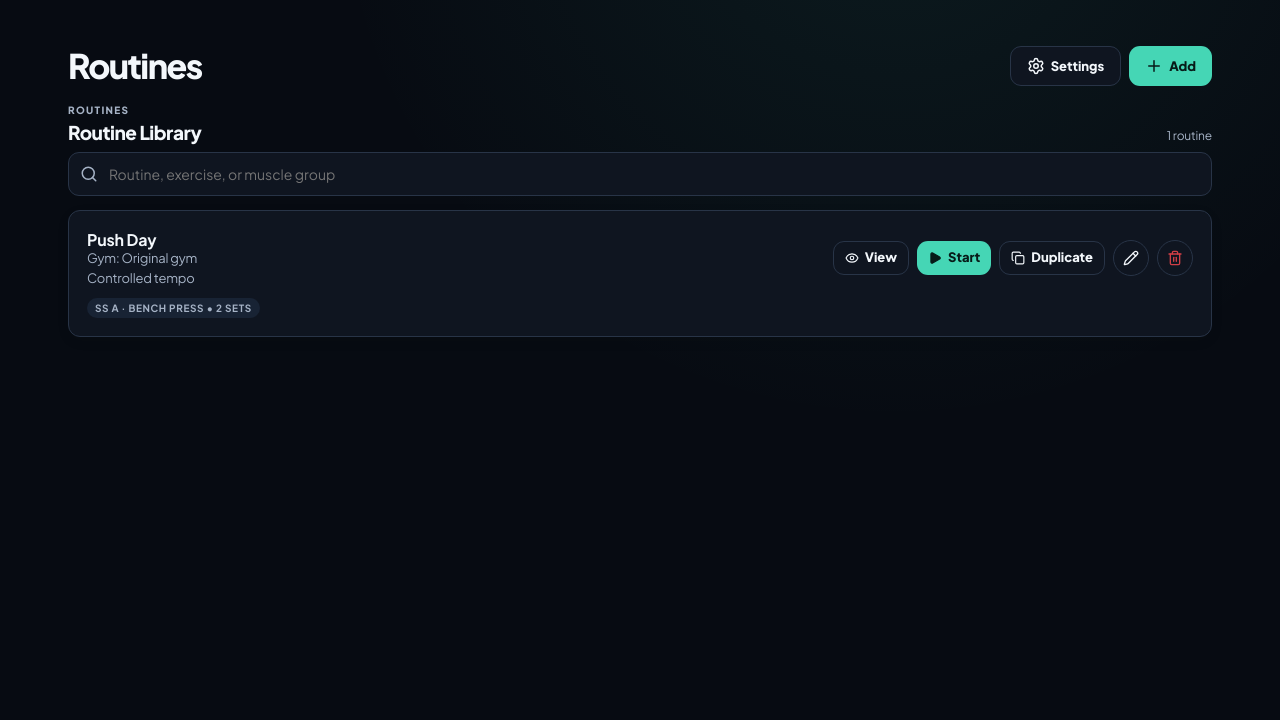
Test: duplicate routine editor › opens an editable copy and cancellation preserves the original without any write
Click the button with aria-label "Duplicate Push Day".
click(1052, 258)  # box [999,240,1105,274]
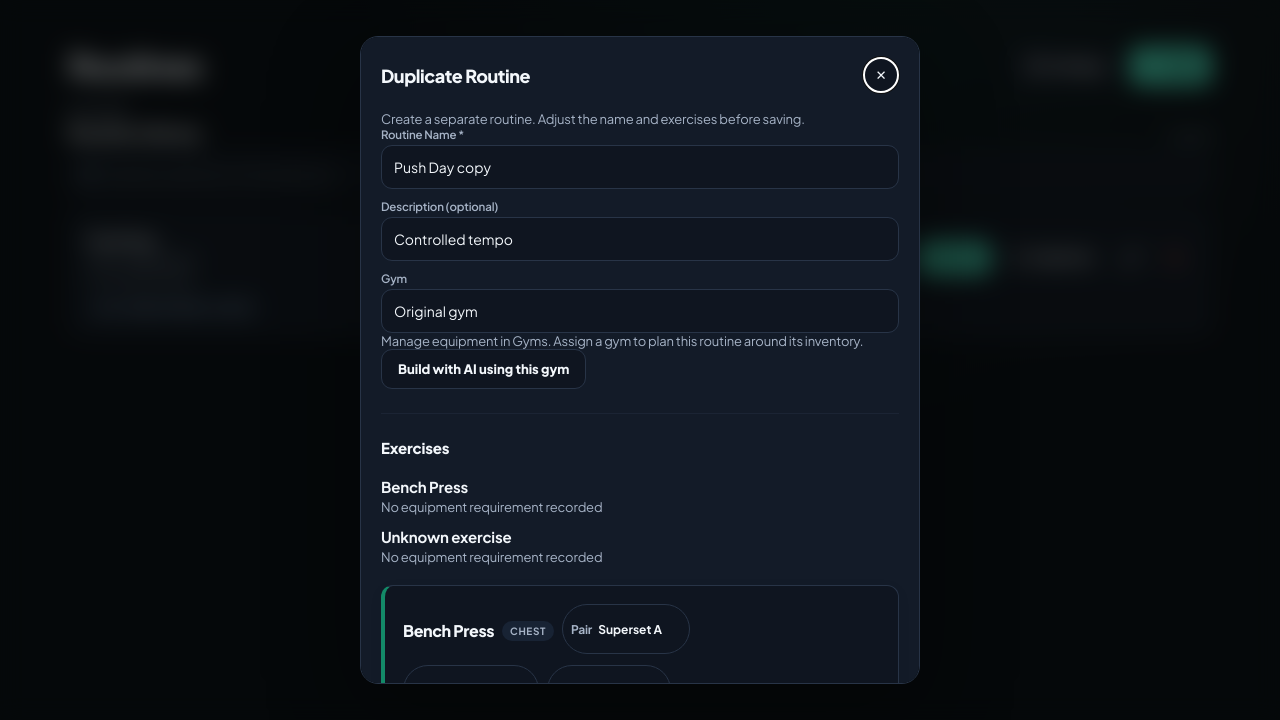
expect the dialog "Duplicate Routine" is shown: met, box [360,36,920,684]
expect the field showing "Push Day copy" below "Routine Name *" is shown: met
expect the dropdown labelled "Gym" shows "Original gym": met, box [381,289,899,333]
Replace the text in the field showing "Push Day copy" below "Routine Name *" with "Travel day" at (640, 167), box [381,145,899,189]
(page scrolled)
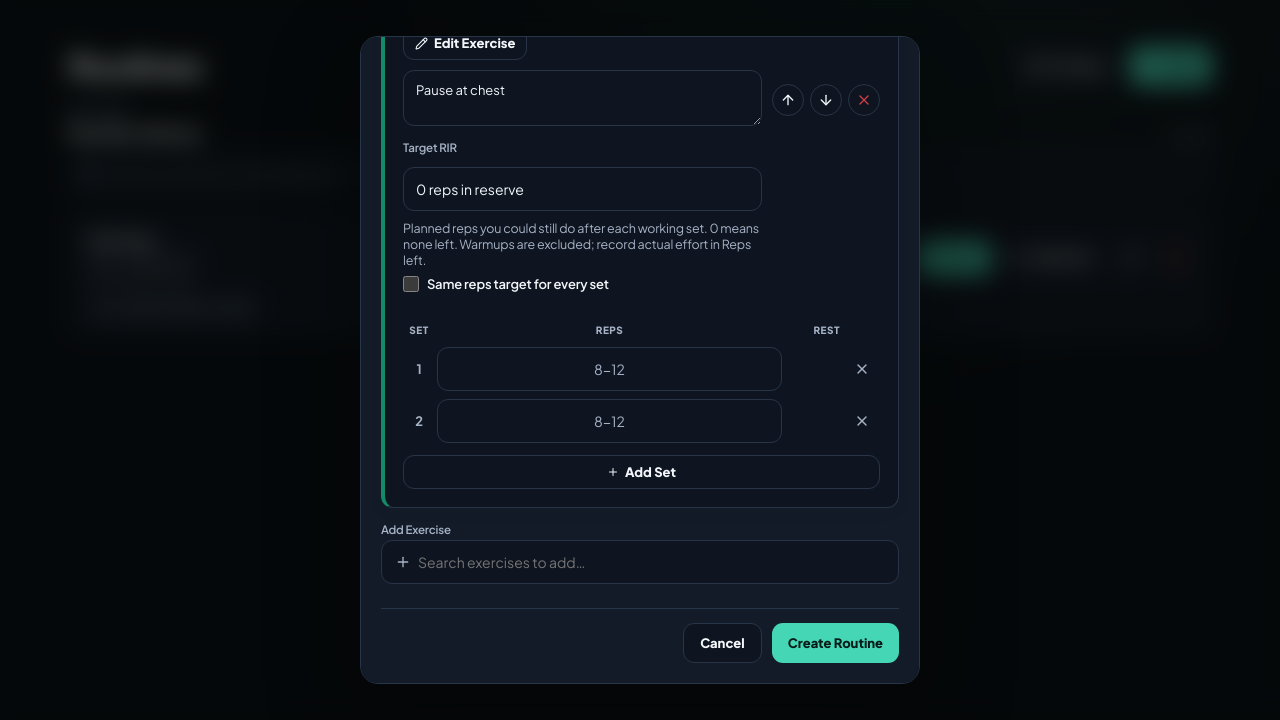
Click the button "Cancel".
click(722, 643)  # box [683,623,762,663]
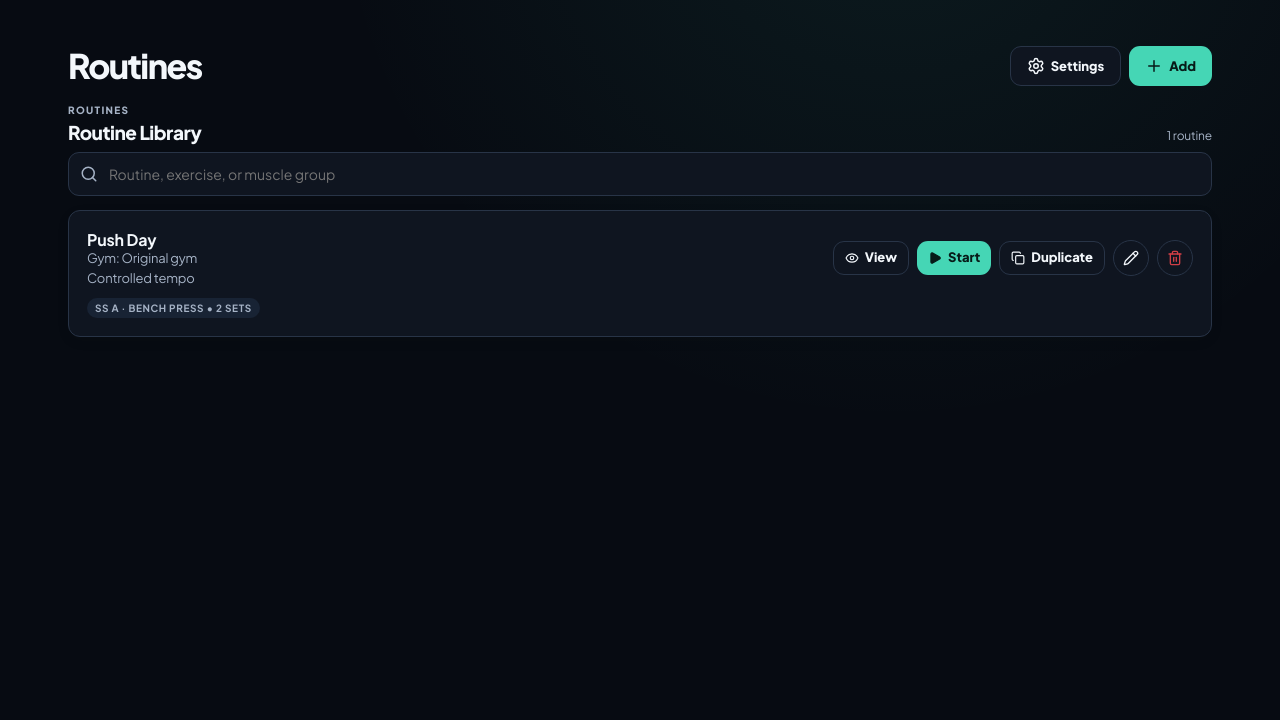
expect the heading "Push Day" is shown: met, box [87,229,156,250]
expect the dialog is gone: met
